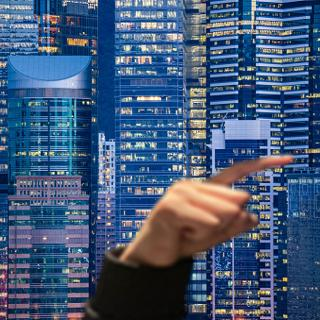WHY: (119, 149, 298, 265)
